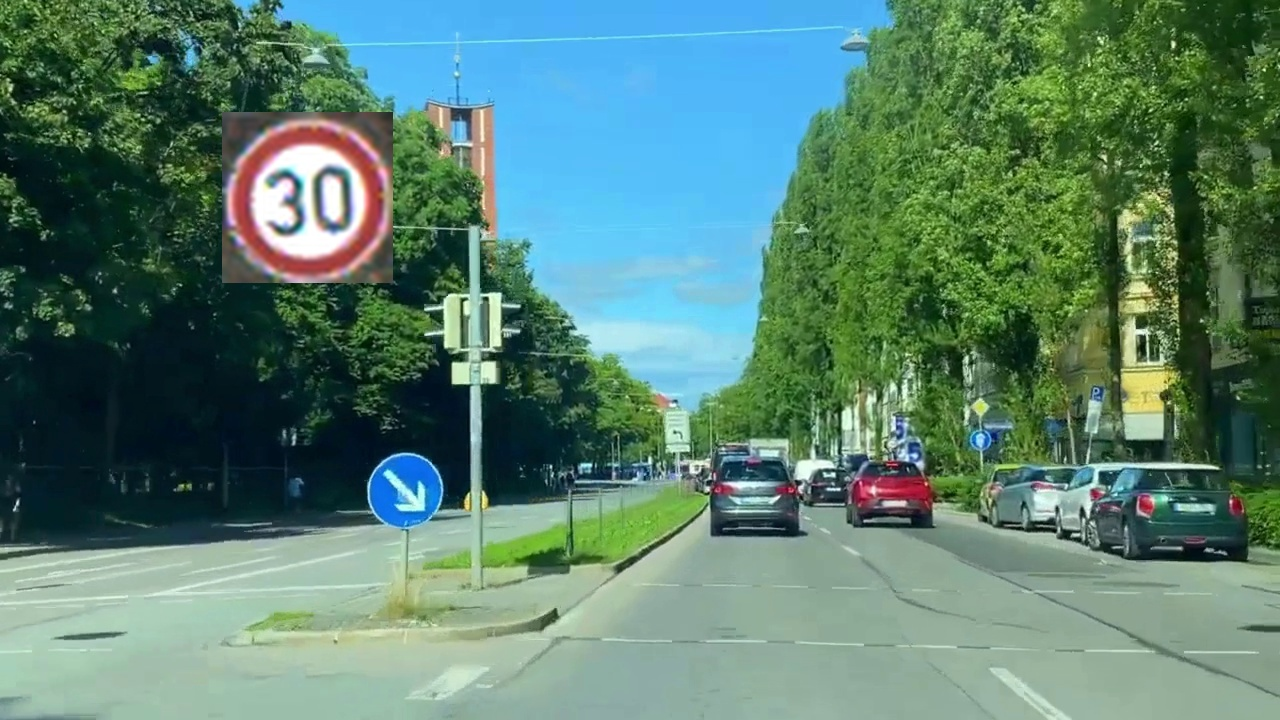Speed 30: (222, 112, 393, 283)
